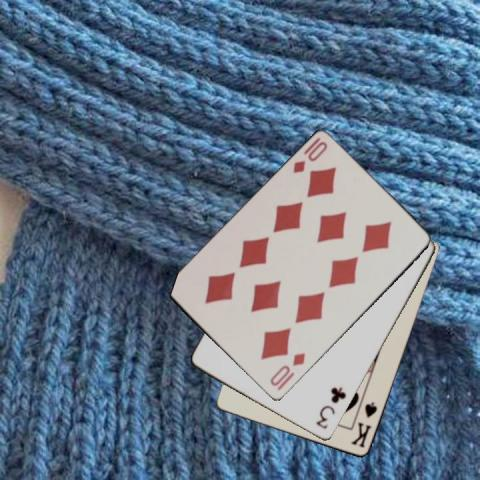10d: (267, 350, 306, 388), (290, 139, 330, 175)
3c: (313, 384, 348, 431)
Ks: (349, 400, 379, 450)
